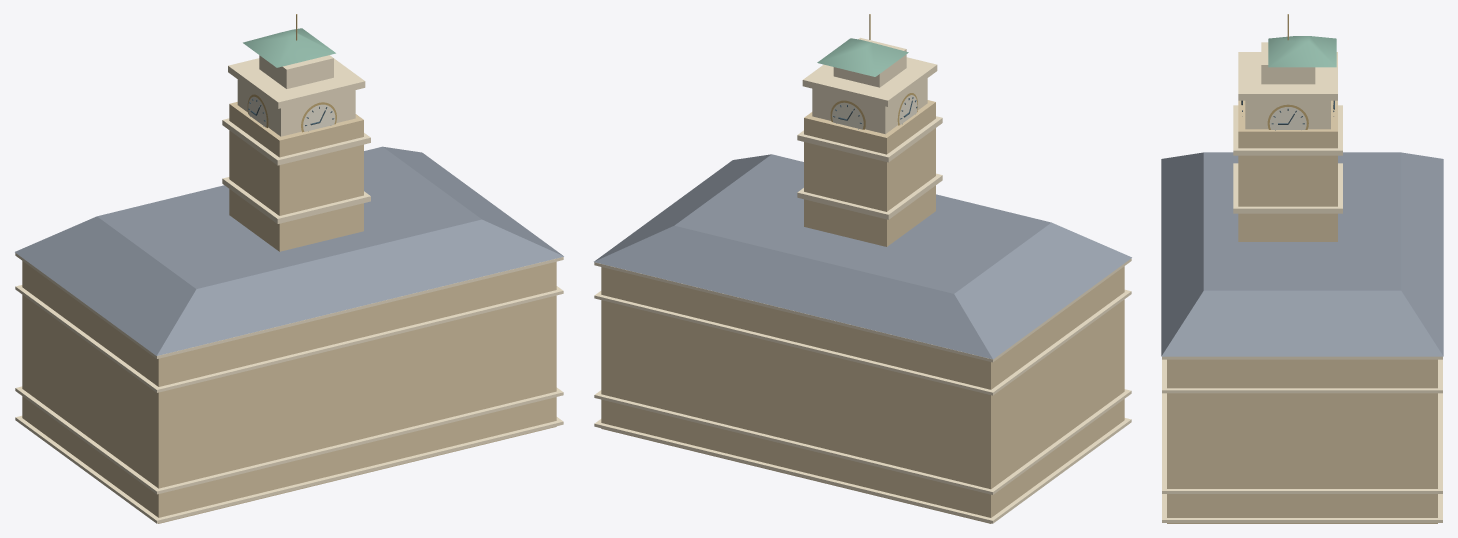
The model's file is customs-lod2.glb.
3 renders of one model, left to right at view 1: azimuth 30°, elevation 25°; view 2: azimuth 150°, elevation 25°; view 3: azimuth 270°, elevation 25°, orthographic. The views are drawn at different scales.
Visible parts, largest first — view 1: customs_architecture; view 2: customs_architecture; view 3: customs_architecture.
Part boxes in pixels (<box>): customs_architecture: <box>15,14,563,523</box>; customs_architecture: <box>594,14,1131,523</box>; customs_architecture: <box>1161,14,1443,523</box>.
Bounding box in the file's own units: 32.8 × 32 × 19.8.
